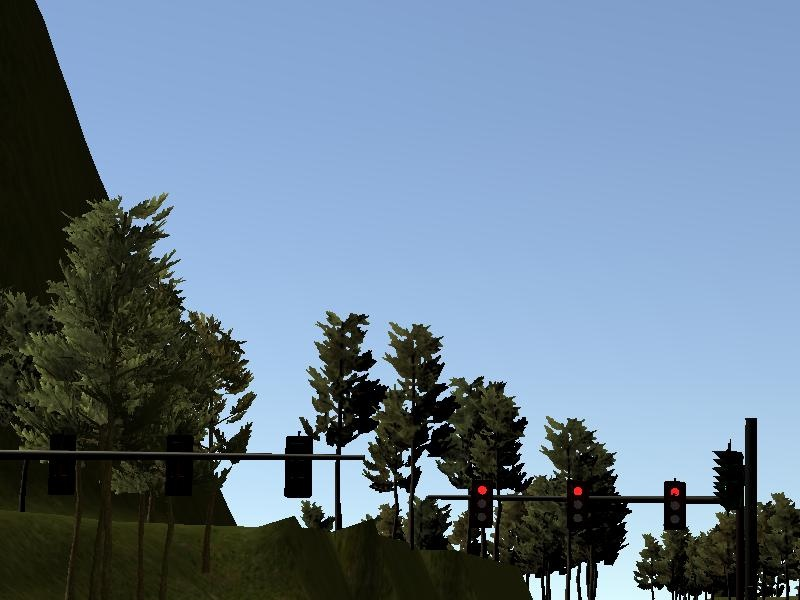traffic_light_red: (451, 477, 735, 535)
